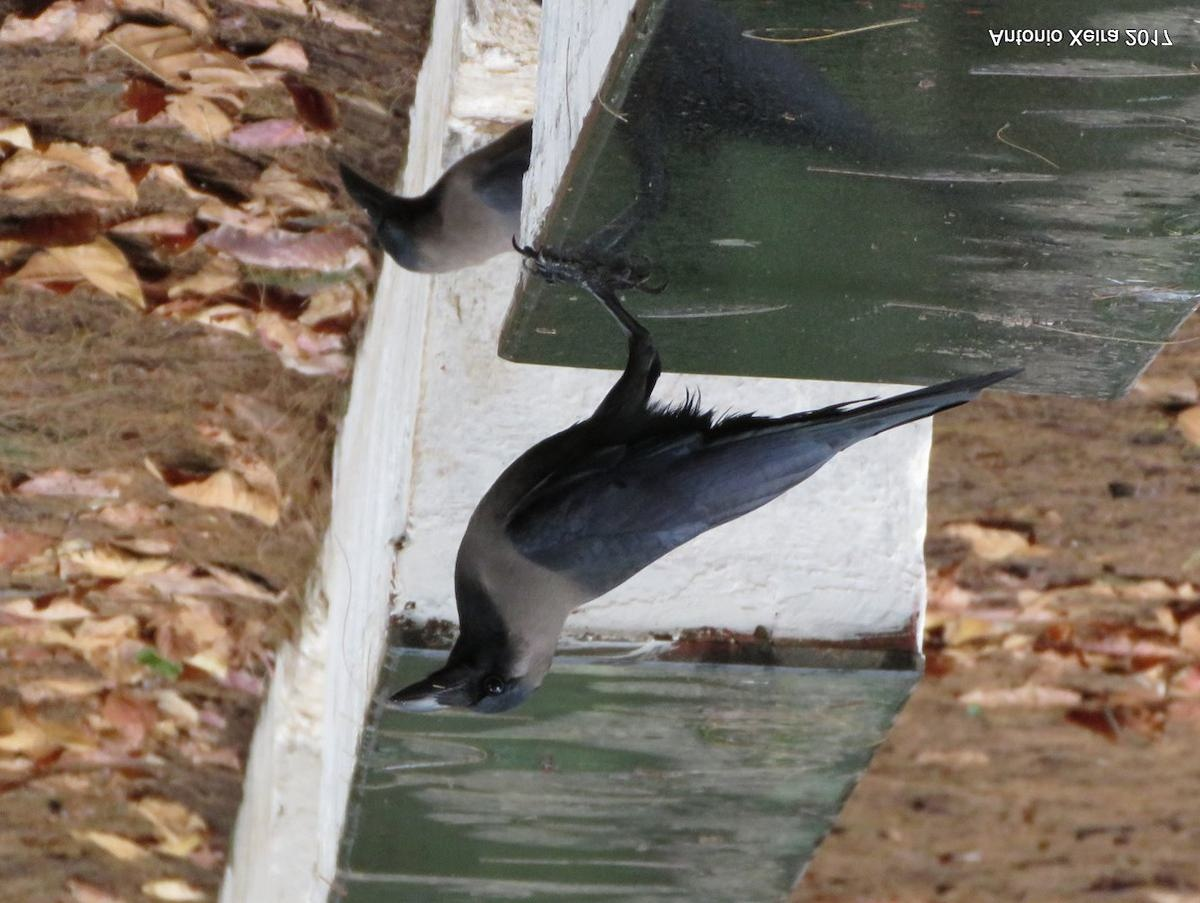crow: (376, 317, 995, 722)
